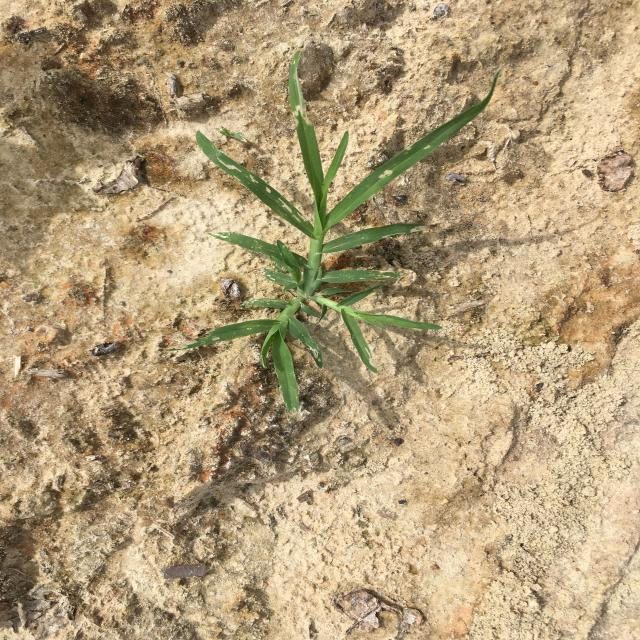Goosegrass: (170, 49, 503, 412)
